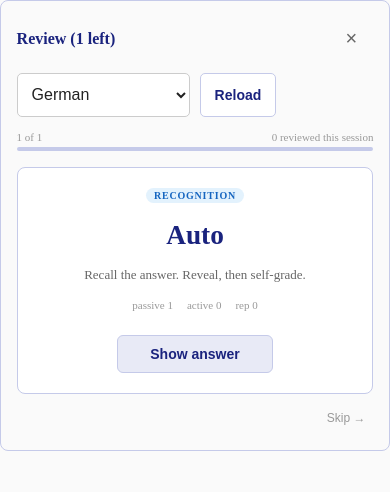
Scenario: SRSReviewPage Skip (W5 / Hole 14) › shows an error message on skip failure and stays on the current card
This screenshot has width=390, height=492.
Expected: the button "Show answer" is shown, [117,335,273,373]
Click the button with test id "srs-skip": (346, 418) [319,402,373,434]
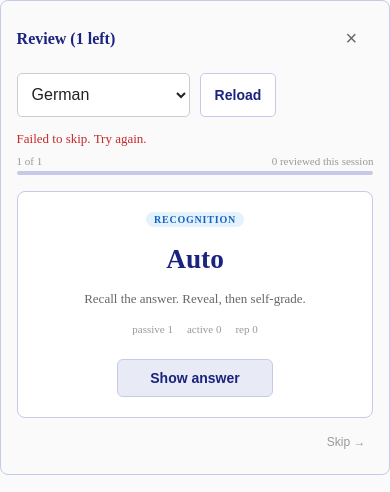
Expected: the text "Auto" is shown, [166,243,224,275]
Expected: the text "Failed to skip. Try again." is shown, [17,131,147,146]
